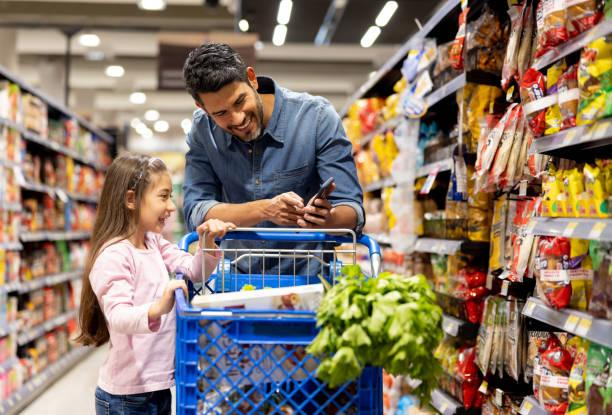Cart: (175, 244, 381, 413), (225, 228, 378, 274)
Person: (183, 43, 364, 232), (75, 153, 202, 414)
article: (577, 34, 611, 124), (510, 199, 538, 280)
